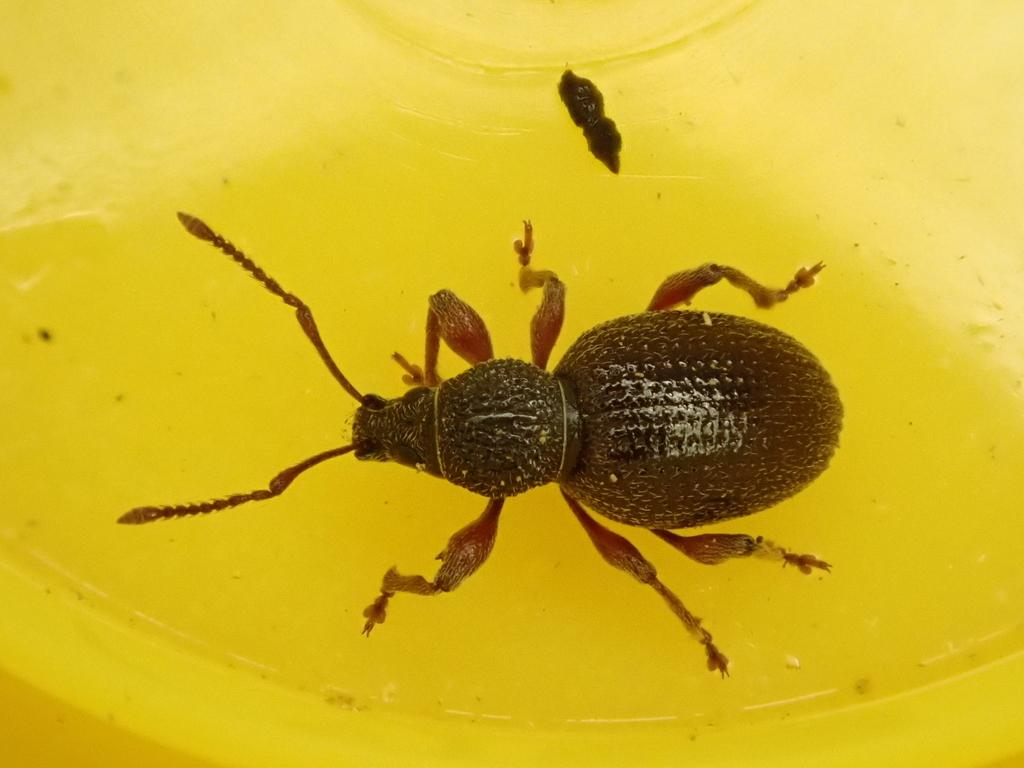weevils: (19, 136, 1024, 738)
